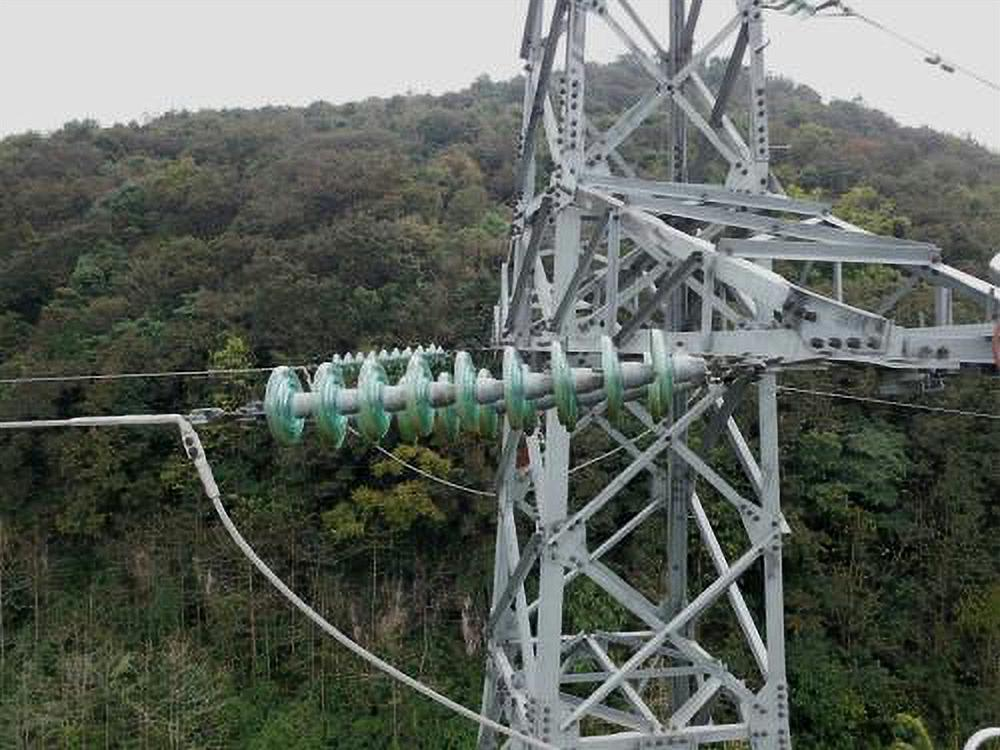insulator: (258, 321, 682, 458), (323, 335, 446, 387)
